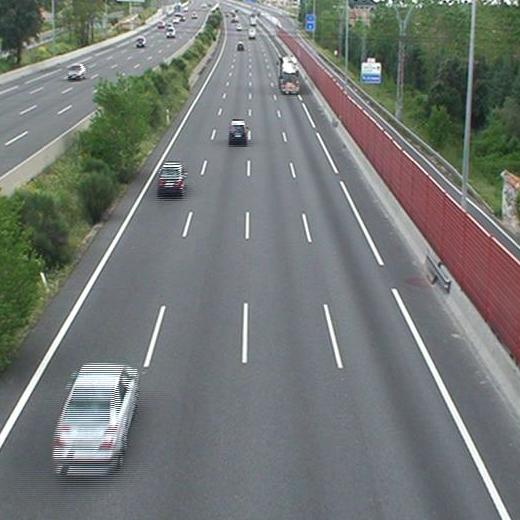car: (55, 366, 136, 461), (156, 163, 184, 195), (229, 121, 247, 145), (236, 41, 244, 50)
tank-truck: (278, 56, 299, 95)
van: (248, 27, 256, 38)
